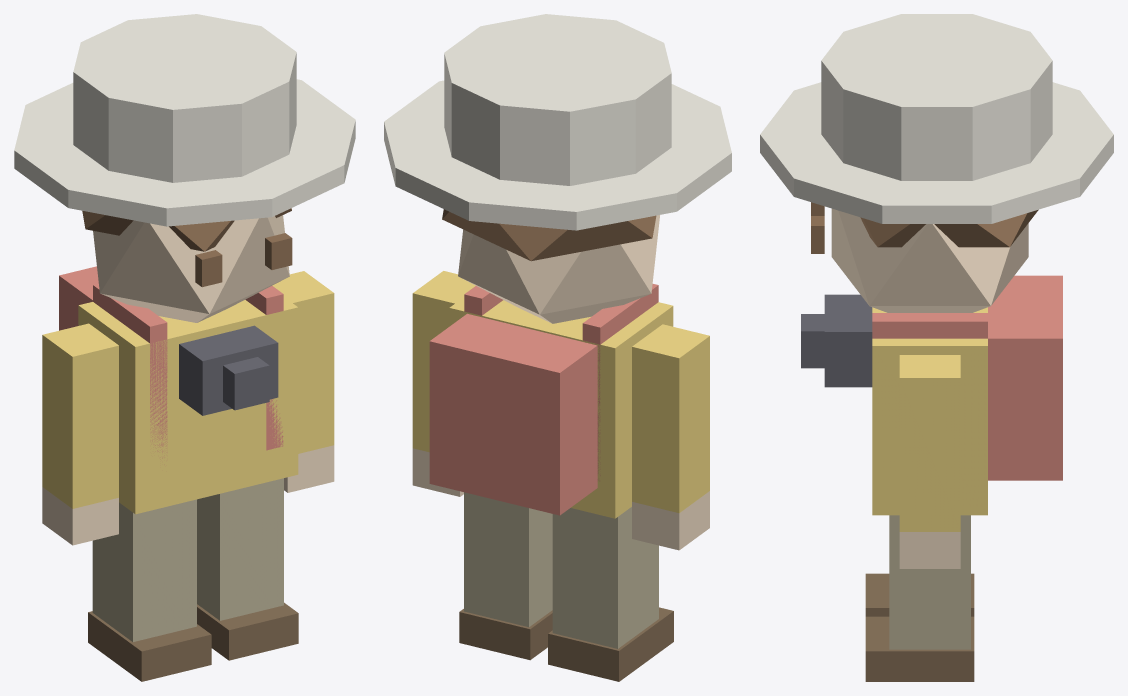
File: visitor.glb
3 views of the same model, side by side, from view 1: azimuth 30°, elevation 25°; view 2: azimuth 150°, elevation 25°; view 3: azimuth 270°, elevation 25° (orthographic).
Visible parts, largest first — view 1: visitor; view 2: visitor; view 3: visitor.
Boxes of the visible parts, x1=… form: visitor: x1=14, y1=14, x2=355, y2=681; visitor: x1=384, y1=14, x2=731, y2=681; visitor: x1=760, y1=14, x2=1113, y2=681.
Size of the model in its own units: 0.9891 by 1.89 by 1.04.
